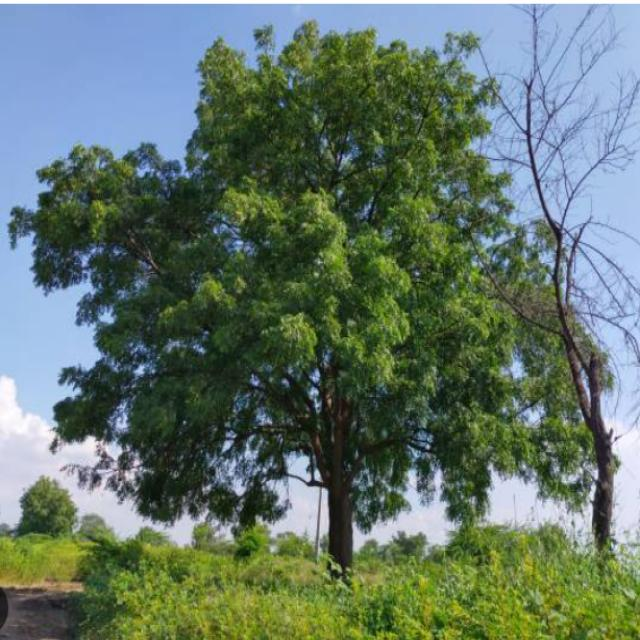Neem-Tree: (58, 43, 561, 562)
